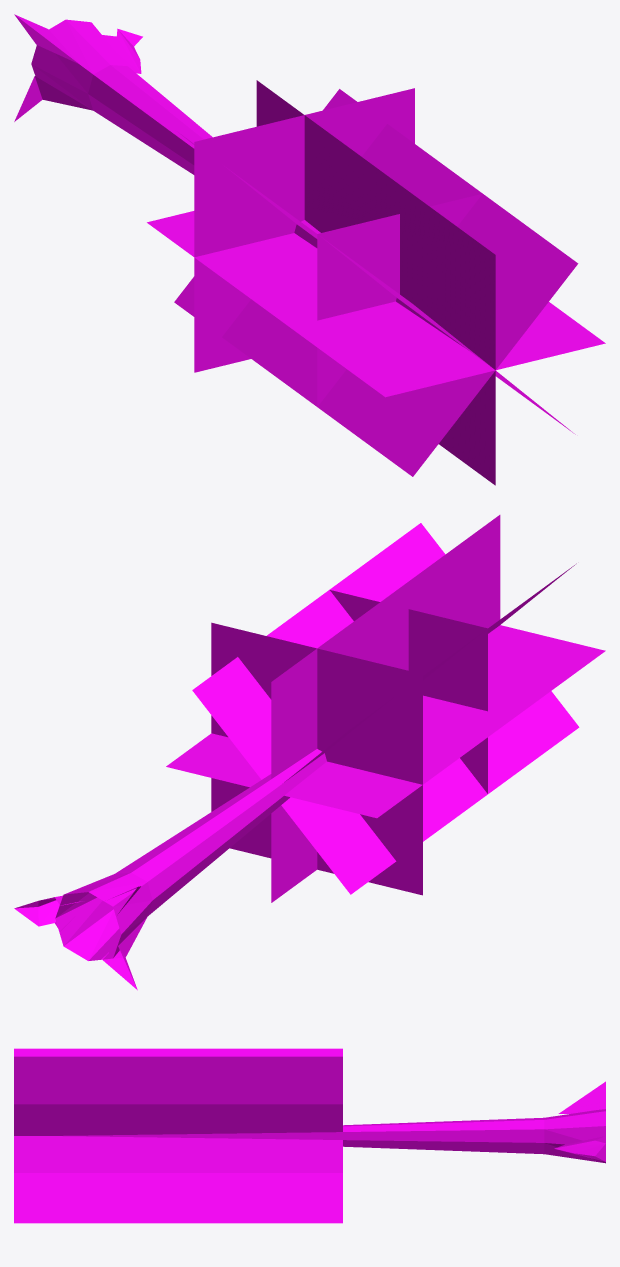
The model's file is dramentree.obj.
3 views of the same model, one above another, from view 1: azimuth 30°, elevation 25°; view 2: azimuth 150°, elevation 25°; view 3: azimuth 270°, elevation 25° (orthographic). The views are drawn at different scales.
Visible parts, largest first — view 1: dramentree; view 2: dramentree; view 3: dramentree.
Boxes of the visible parts, box(x1,y1,x2,y2) form: dramentree: box(14, 14, 605, 485); dramentree: box(14, 515, 605, 990); dramentree: box(14, 1048, 605, 1223).
Bounding box in the file's own units: 1.28 × 1.28 × 4.32.
